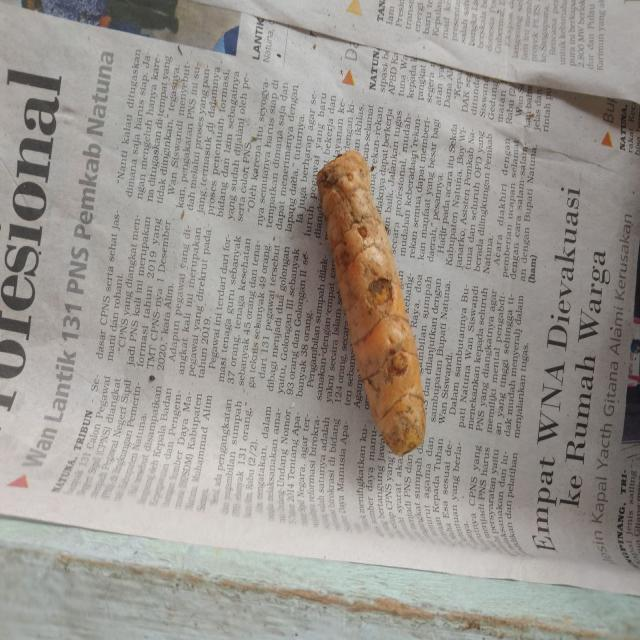ginger: (327, 152, 424, 463)
